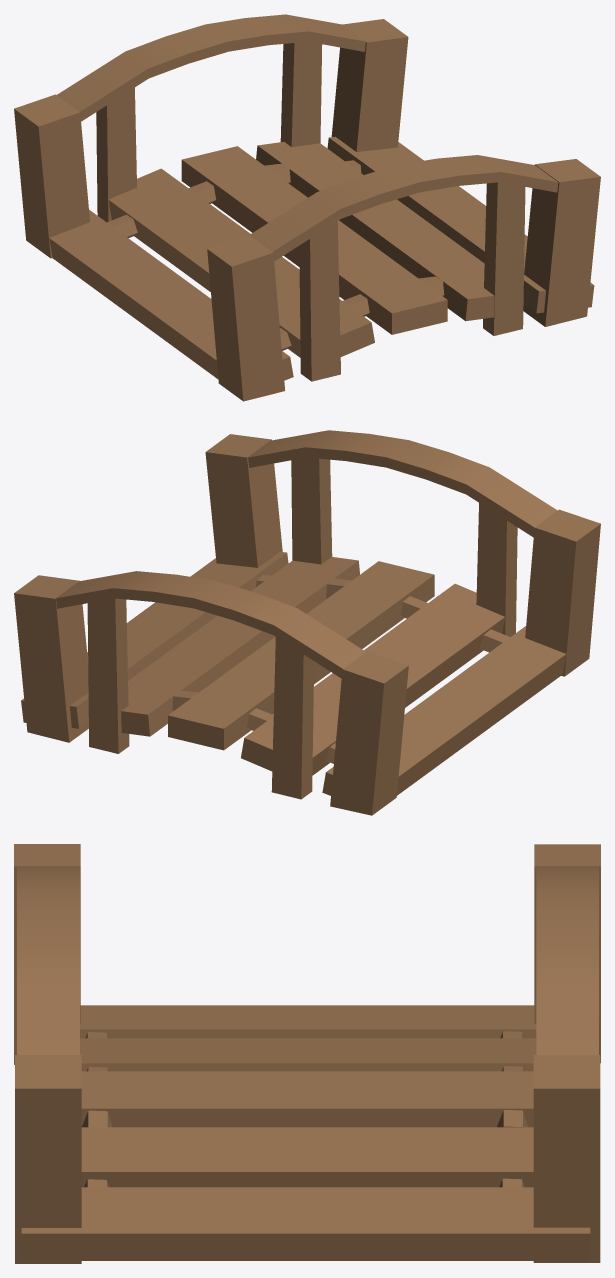
The model's file is SM_Bridge_JG.fbx.
3 views of the same model, one above another, from view 1: azimuth 30°, elevation 25°; view 2: azimuth 150°, elevation 25°; view 3: azimuth 270°, elevation 25° (orthographic). The views are drawn at different scales.
Visible parts, largest first — view 1: Bridge; view 2: Bridge; view 3: Bridge.
Part boxes in pixels (<box>): Bridge: <box>14,14,600,401</box>; Bridge: <box>14,430,600,815</box>; Bridge: <box>14,844,600,1263</box>.
Bounding box in the file's own units: 0.8957 × 0.405 × 0.909.
